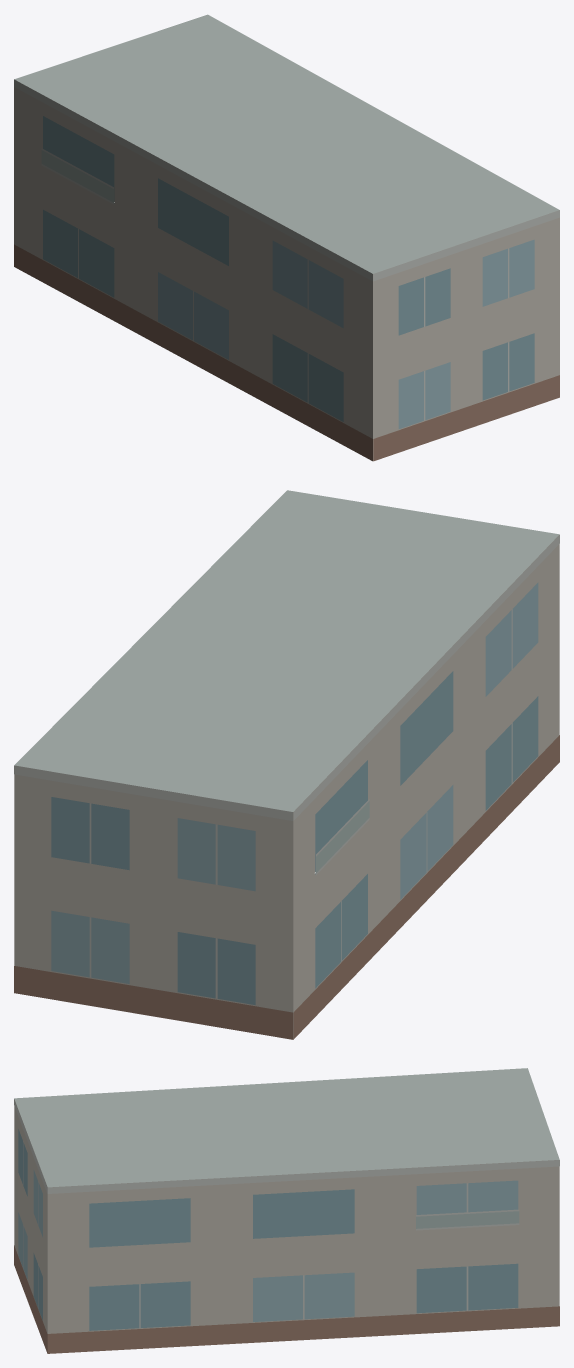
The model's file is survey-upis-32602383.glb.
3 renders of one model, top to bottom at view 1: azimuth 30°, elevation 25°; view 2: azimuth 150°, elevation 25°; view 3: azimuth 270°, elevation 25°, orthographic. The views are drawn at different scales.
Parts seen in each view (by area): view 1: survey-upis-32602383.tmp; view 2: survey-upis-32602383.tmp; view 3: survey-upis-32602383.tmp.
Part boxes in pixels (x1=…): survey-upis-32602383.tmp: x1=14, y1=14, x2=559, y2=461; survey-upis-32602383.tmp: x1=14, y1=490, x2=559, y2=1039; survey-upis-32602383.tmp: x1=14, y1=1068, x2=559, y2=1353.
Bounding box in the file's own units: 9.39 × 6.1 × 18.14.
